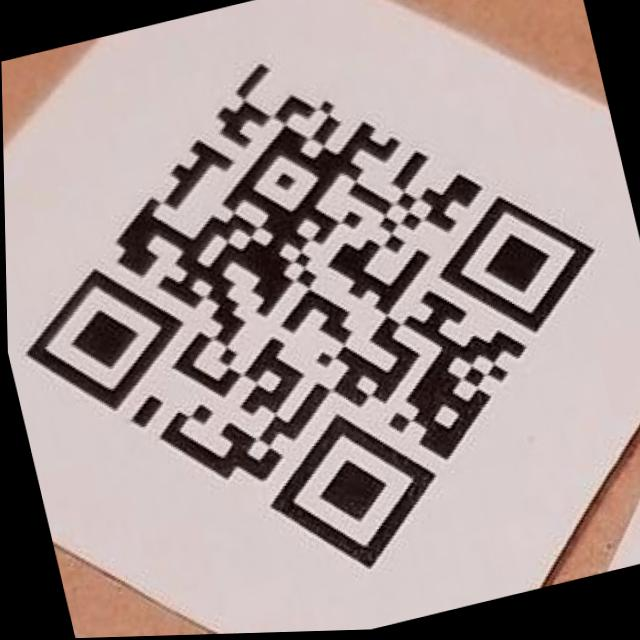QR_CODE: (0, 0, 640, 636)
